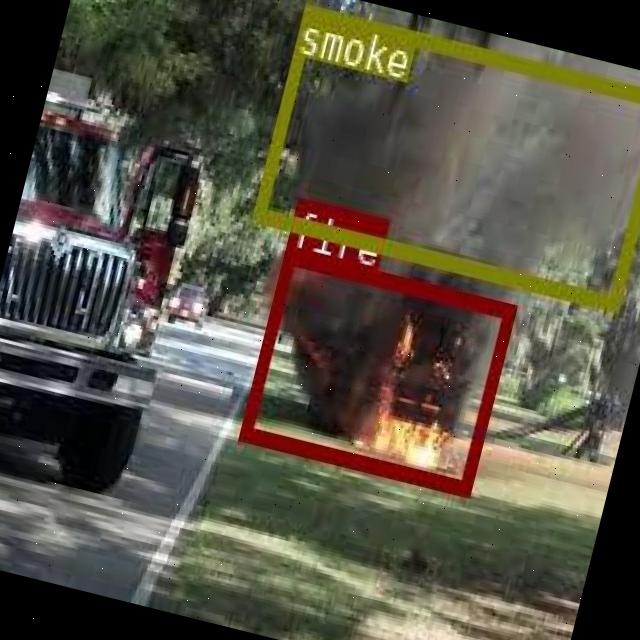fire: (239, 245, 514, 492)
smoke: (250, 2, 640, 309)
